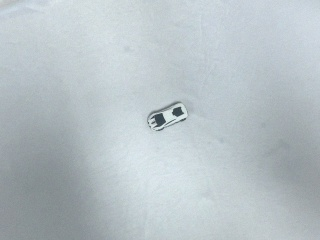toy_car: (147, 101, 188, 130)
